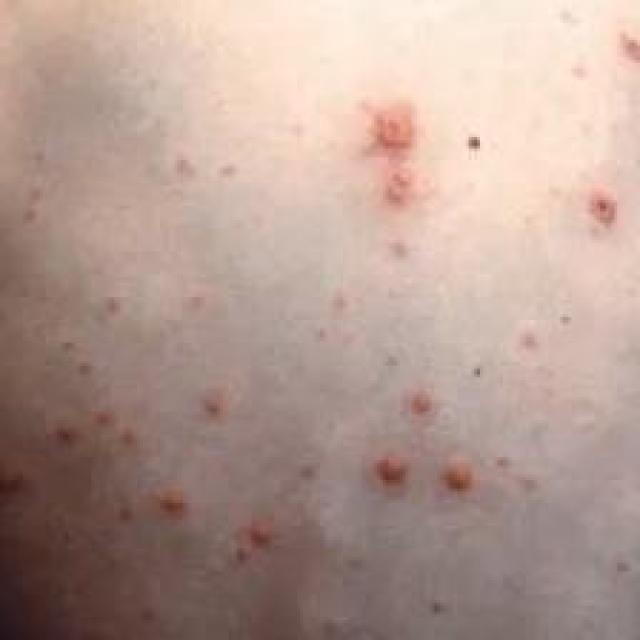others: (25, 34, 640, 639)
